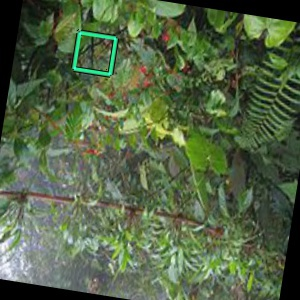square: (71, 29, 119, 78)
